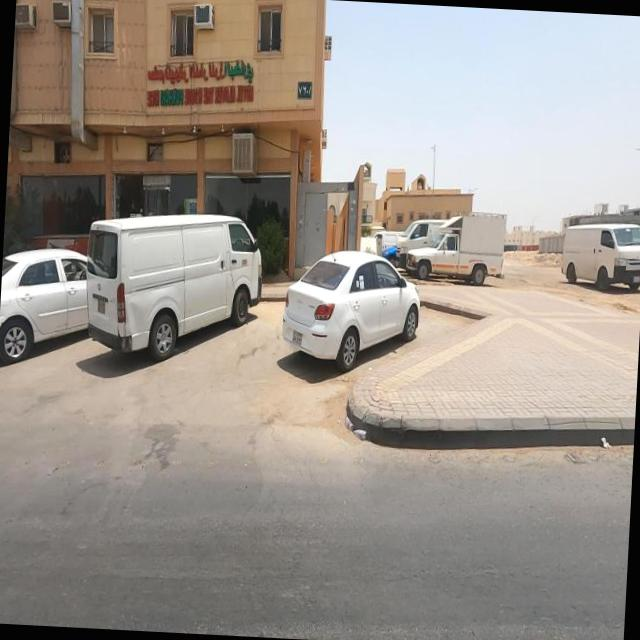debris: (323, 386, 398, 470), (580, 415, 635, 473)
